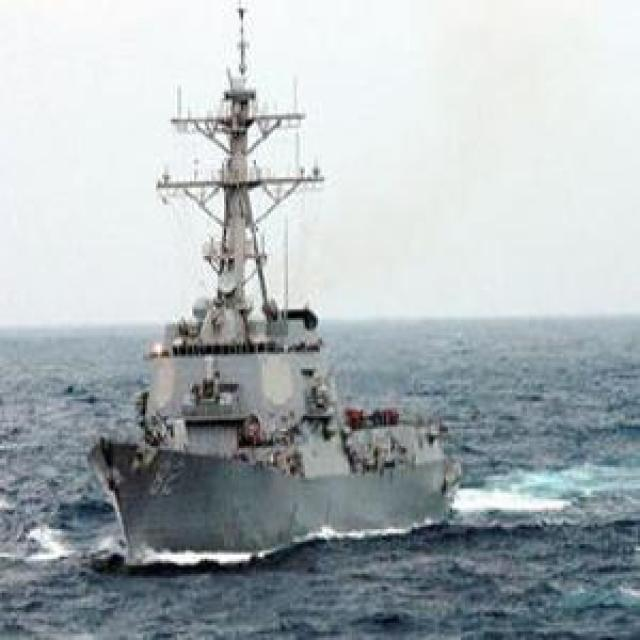navalvessels: (89, 24, 476, 568)
